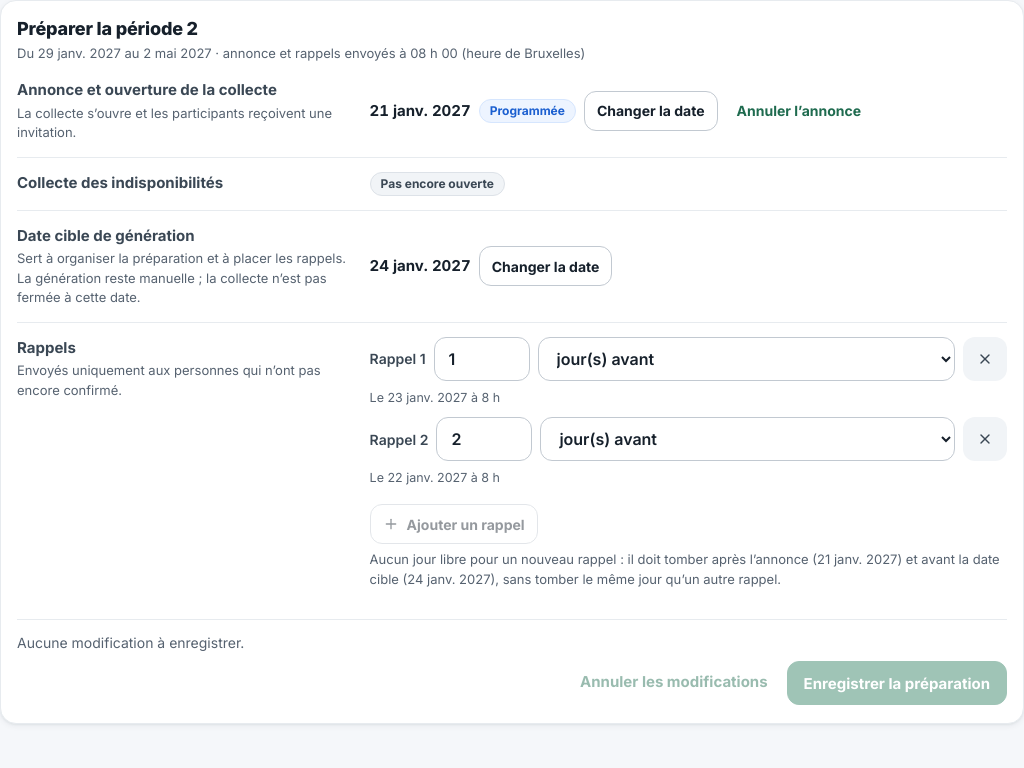
Test: PeriodPreparationPanel — adding a reminder (Trauma Delta, 17 → 24 January 2027) › disables "Ajouter un rappel" and says why when no day is left
The width and height of the screenshot is (1024, 768).
Expected: the button "Ajouter un rappel" is disabled, [370,504,538,544]
Note: Removing one frees its day again.
Click the button named "Supprimer le rappel 2".
click(985, 439)  # box [963,417,1007,461]
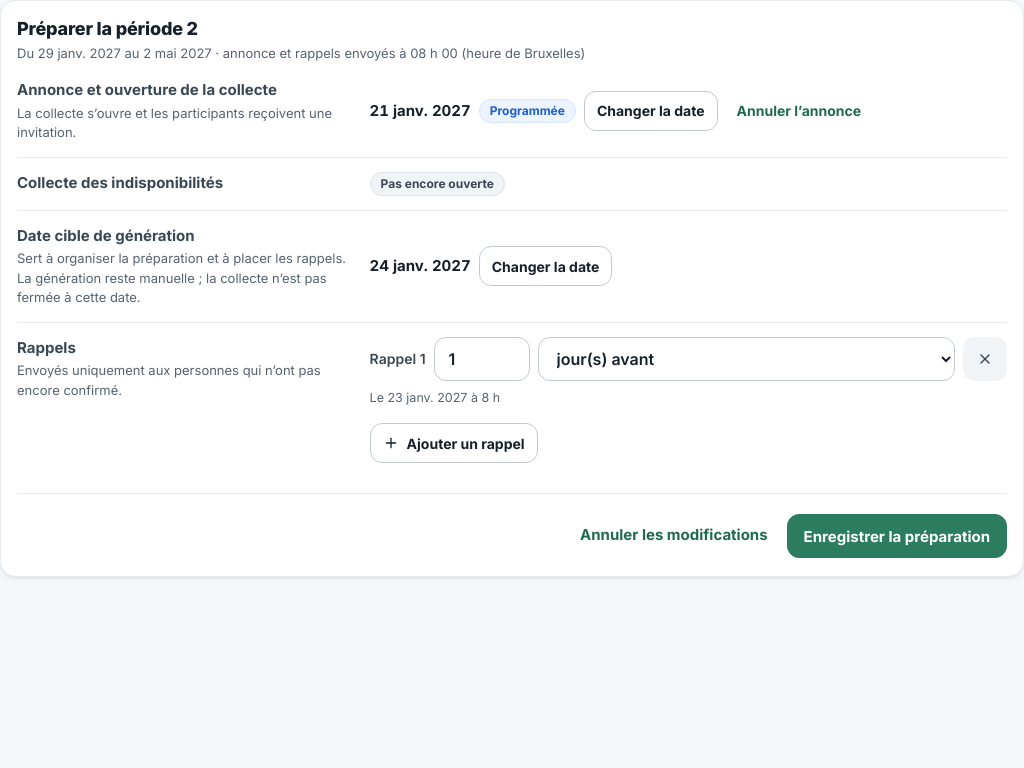
Expected: the button "Ajouter un rappel" is enabled
Click the button "Ajouter un rappel".
click(454, 443)  # box [370,423,538,463]
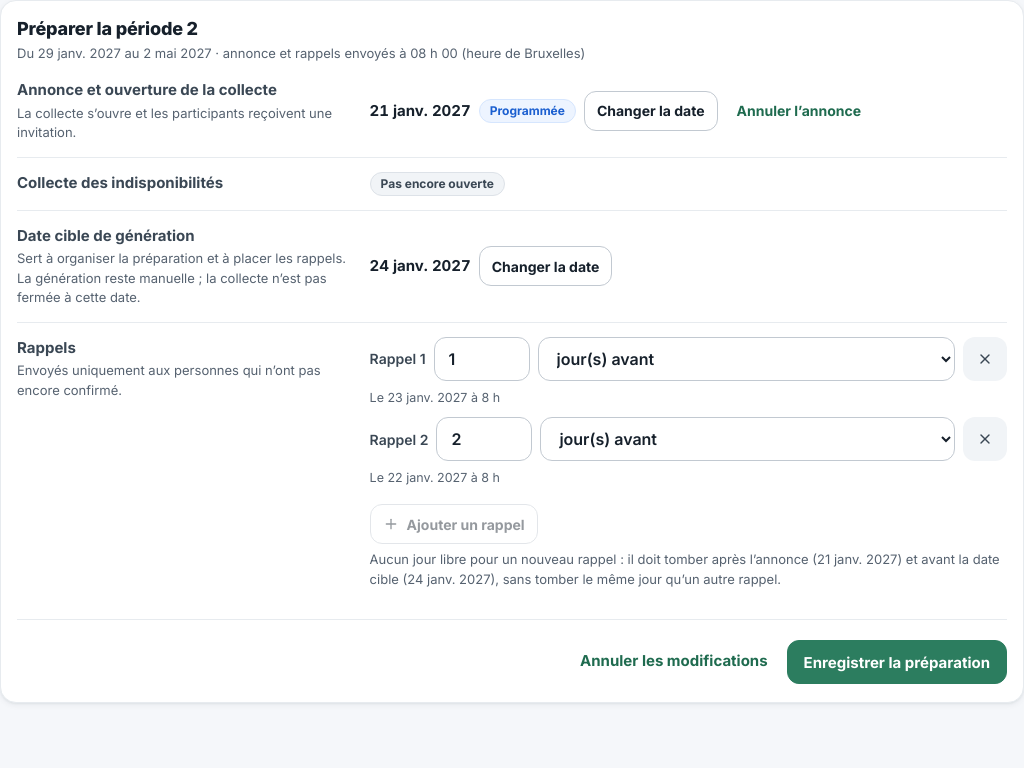
Expected: the number field named "Rappel 2 : combien avant la date cible" holds "2", [436,417,532,461]
